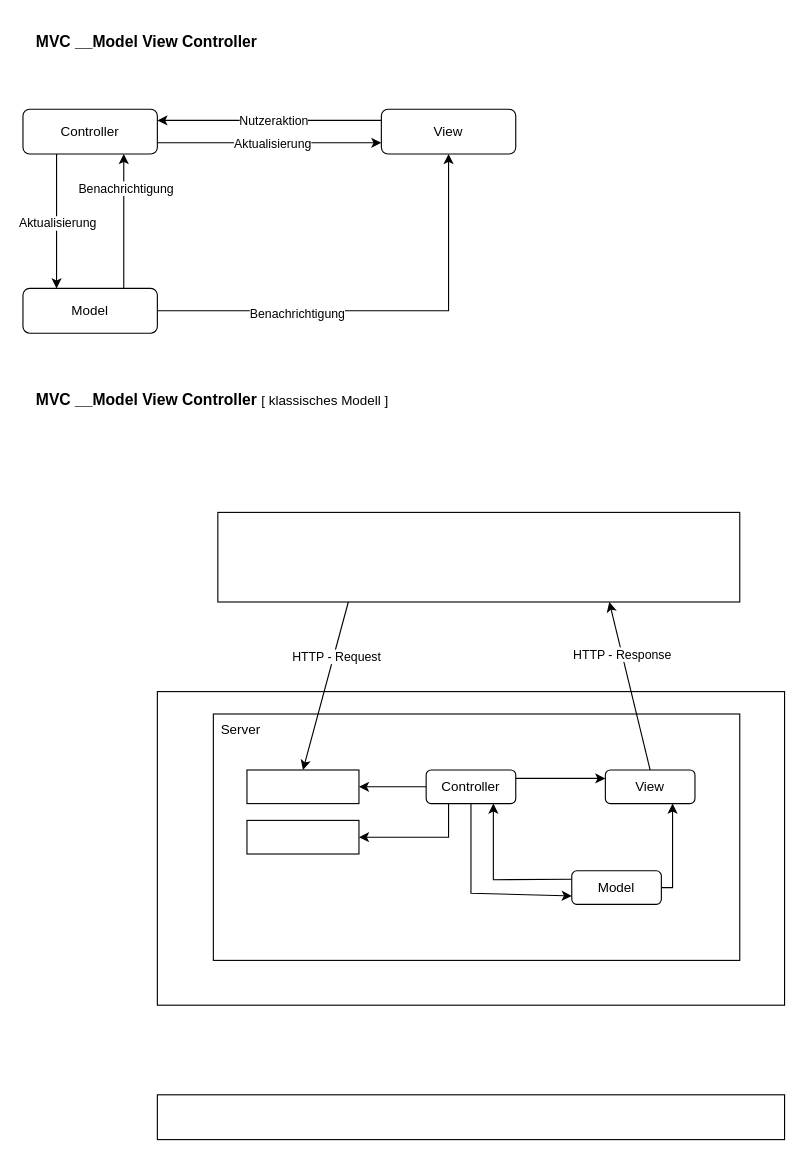
The diagram is 804 pixels wide and 1159 high, and some of its shapes have lost their labels. The centre of each missing label's shape, as x and y in pixels:
"Client (Browser)" goes at point (478, 556).
"Routing Engine" goes at point (302, 786).
"Template Engine" goes at point (302, 836).
